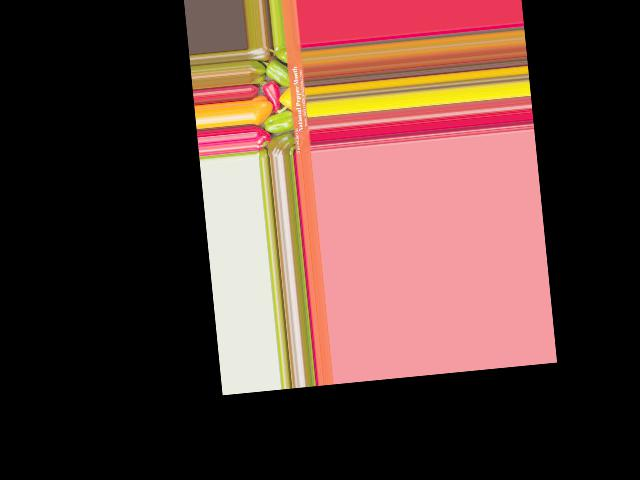bell_pepper: (266, 132, 296, 157)
